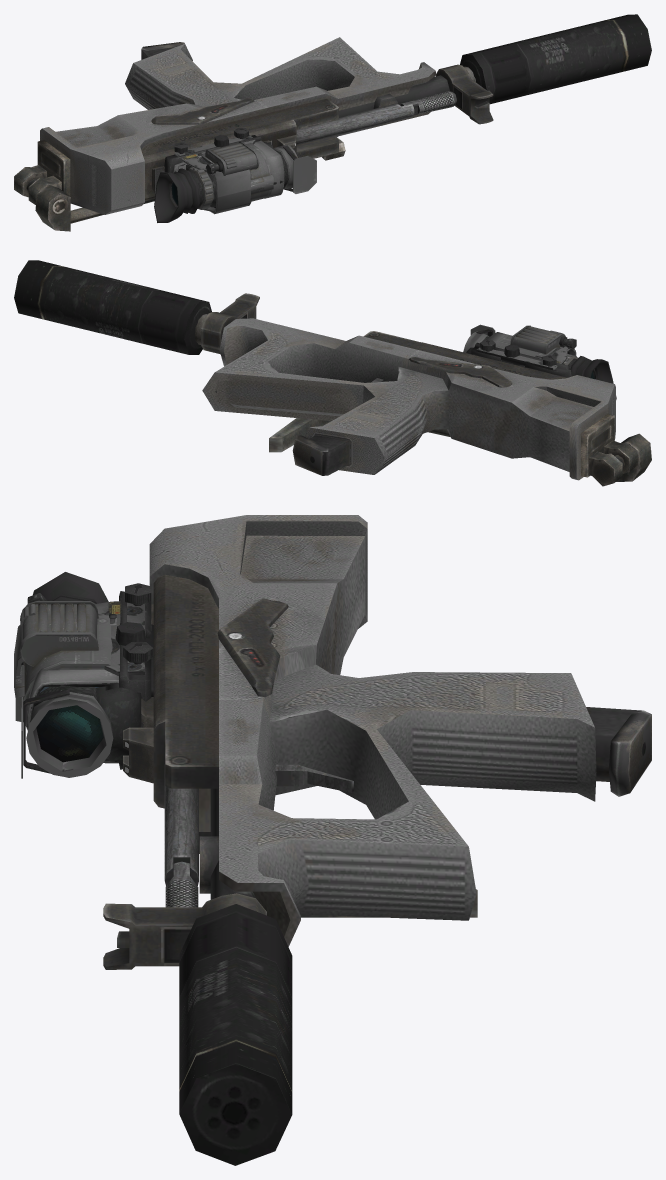
File: weapon_pp2000_red_urban_LOD0.obj
3 renders of one model, top to bottom at view 1: azimuth 30°, elevation 25°; view 2: azimuth 150°, elevation 25°; view 3: azimuth 270°, elevation 25°, orthographic. The views are drawn at different scales.
Parts seen in each view (by area): view 1: mtl_weapon_pp2000_plastic_red_urban, mtl_weapon_suppressor_b, mtl_weapon_thermal_sight_2, mtl_weapon_eotech_2, mtl_weapon_red_dot_sight_red_urban; view 2: mtl_weapon_pp2000_plastic_red_urban, mtl_weapon_suppressor_b, mtl_weapon_thermal_sight_2, mtl_weapon_red_dot_sight_red_urban, mtl_weapon_eotech_2; view 3: mtl_weapon_pp2000_plastic_red_urban, mtl_weapon_suppressor_b, mtl_weapon_thermal_sight_2, mtl_weapon_red_dot_sight_red_urban, mtl_weapon_eotech_2, mtl_weapon_thermal_lens.
Part boxes in pixels (x1,y1,x2,y2): mtl_weapon_pp2000_plastic_red_urban: (14,37,493,231); mtl_weapon_suppressor_b: (460,14,651,104); mtl_weapon_thermal_sight_2: (154,135,316,222); mtl_weapon_eotech_2: (174,134,273,214); mtl_weapon_red_dot_sight_red_urban: (164,128,284,198); mtl_weapon_pp2000_plastic_red_urban: (195,293,651,486); mtl_weapon_suppressor_b: (14,260,211,354); mtl_weapon_thermal_sight_2: (463,324,616,399); mtl_weapon_red_dot_sight_red_urban: (470,332,571,377); mtl_weapon_eotech_2: (466,346,576,374); mtl_weapon_pp2000_plastic_red_urban: (103,515,651,969); mtl_weapon_suppressor_b: (179,904,292,1165); mtl_weapon_thermal_sight_2: (15,572,146,778); mtl_weapon_red_dot_sight_red_urban: (27,583,153,769); mtl_weapon_eotech_2: (14,601,153,760); mtl_weapon_thermal_lens: (36,705,103,762).
Size of the model in its own units: 55.09 by 6.87 by 25.68.
